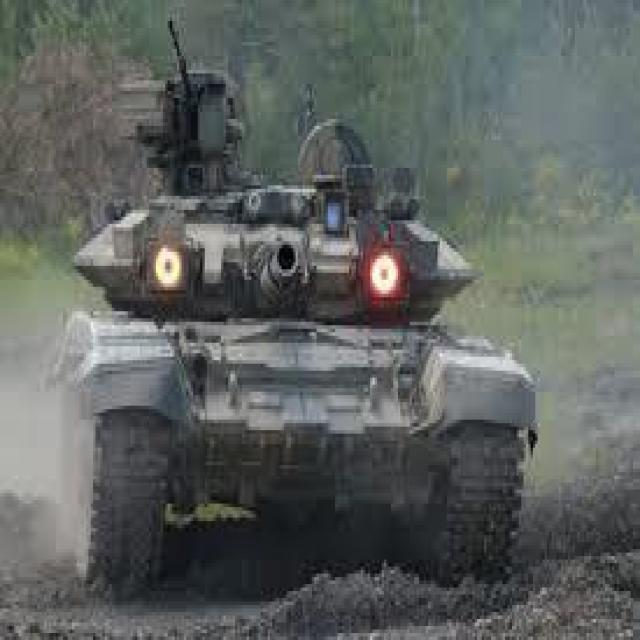Tanks: (28, 103, 563, 582)
